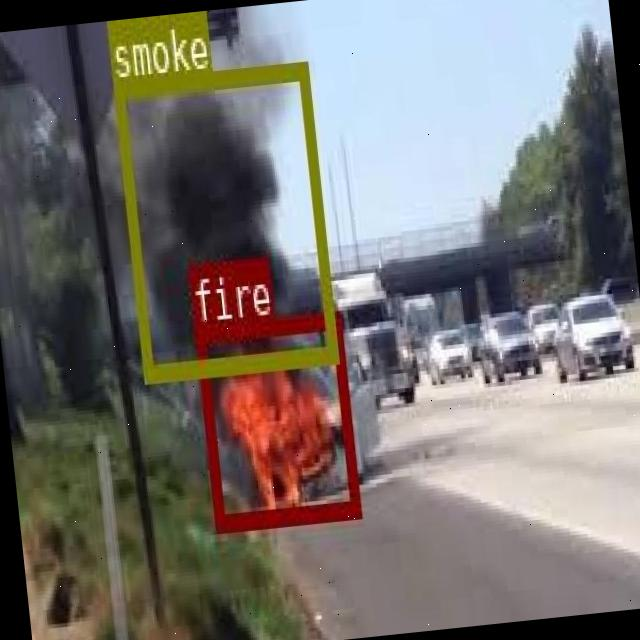fire: (192, 309, 358, 527)
smoke: (110, 58, 337, 380)
